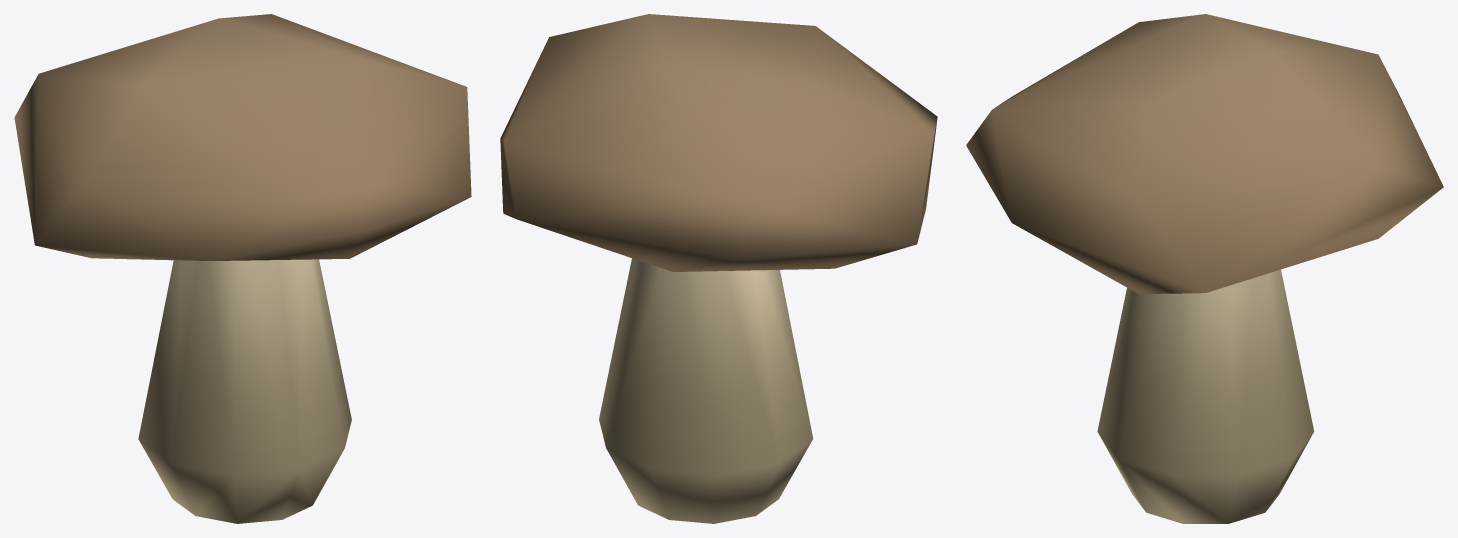
The model's file is Mushroom_Brown.fbx.
3 views of the same model, side by side, from view 1: azimuth 30°, elevation 25°; view 2: azimuth 150°, elevation 25°; view 3: azimuth 270°, elevation 25° (orthographic).
Parts seen in each view (by area): view 1: Mushroom_Brown; view 2: Mushroom_Brown; view 3: Mushroom_Brown.
Boxes of the visible parts, x1,y1,x2,y2 form: Mushroom_Brown: (14, 14, 471, 523); Mushroom_Brown: (500, 14, 937, 523); Mushroom_Brown: (966, 14, 1443, 523).
Bounding box in the file's own units: 0.2906 × 0.3 × 0.2916.
1 material, 1 textured.
